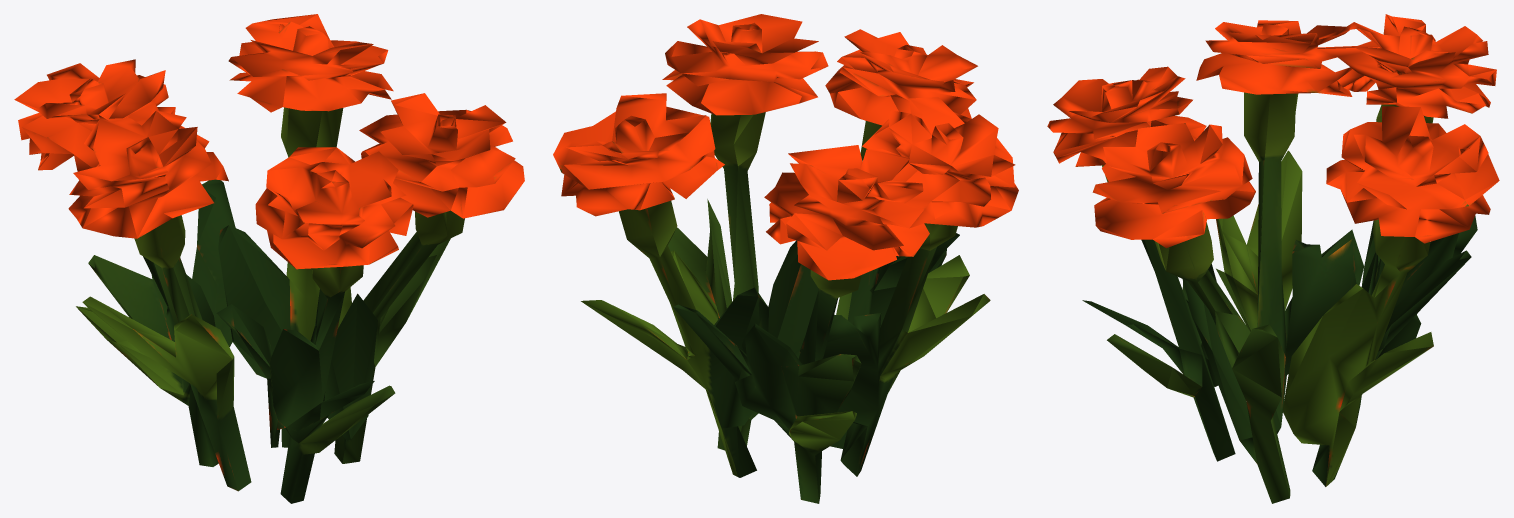
The model's file is marigold-cluster.glb.
3 views of the same model, side by side, from view 1: azimuth 30°, elevation 25°; view 2: azimuth 150°, elevation 25°; view 3: azimuth 270°, elevation 25° (orthographic).
Visible parts, largest first — view 1: geometry_0; view 2: geometry_0; view 3: geometry_0.
Part boxes in pixels (x1=…): geometry_0: x1=14, y1=14, x2=524, y2=503; geometry_0: x1=553, y1=14, x2=1018, y2=503; geometry_0: x1=1047, y1=14, x2=1499, y2=503.
Size of the model in its own units: 0.9914 by 0.9397 by 0.9995.
Materials: 1 (1 with a texture image).
